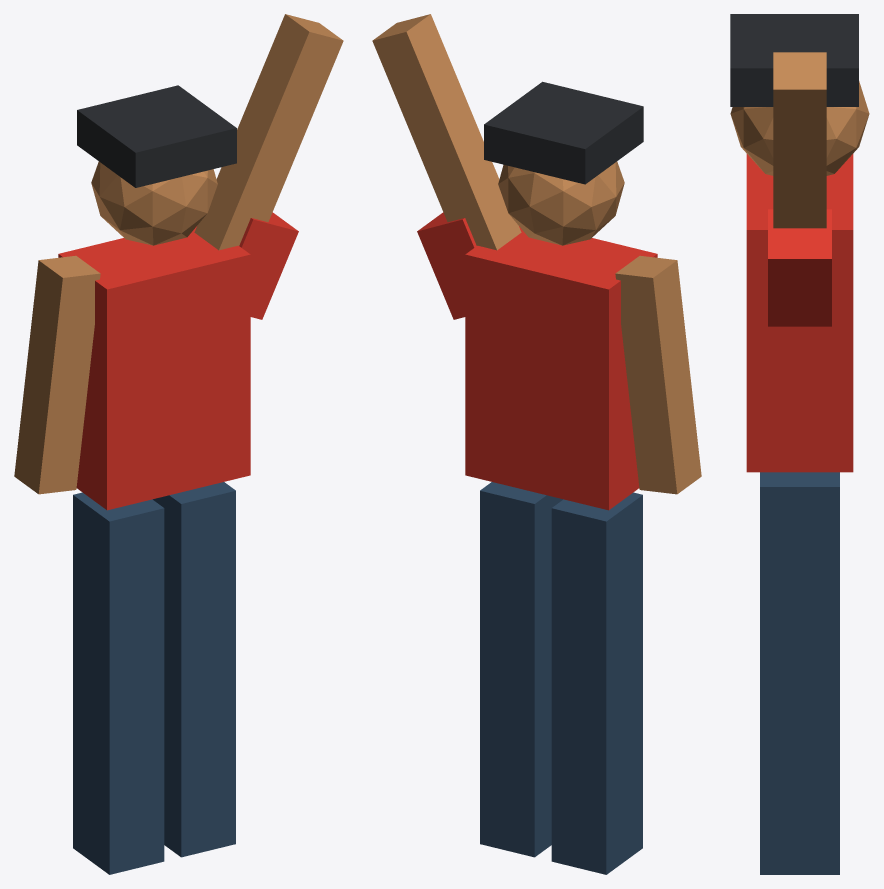
Rendered from person_red.fbx.
3 views of the same model, side by side, from view 1: azimuth 30°, elevation 25°; view 2: azimuth 150°, elevation 25°; view 3: azimuth 270°, elevation 25° (orthographic). The views are drawn at different scales.
Visible parts, largest first — view 1: M__person_red; view 2: M__person_red; view 3: M__person_red.
Boxes of the visible parts, left/top/right/bottom form: M__person_red: left=14, top=14, right=343, bottom=874; M__person_red: left=372, top=14, right=701, bottom=874; M__person_red: left=730, top=14, right=869, bottom=874.
Bounding box in the file's own units: 0.7227 × 1.78 × 0.26.
